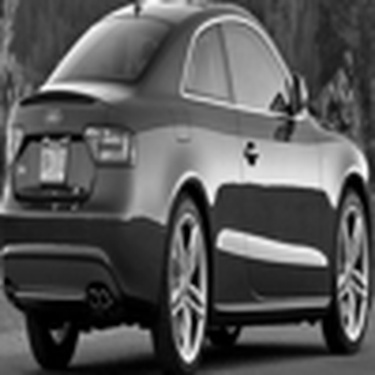car: (11, 7, 360, 349)
